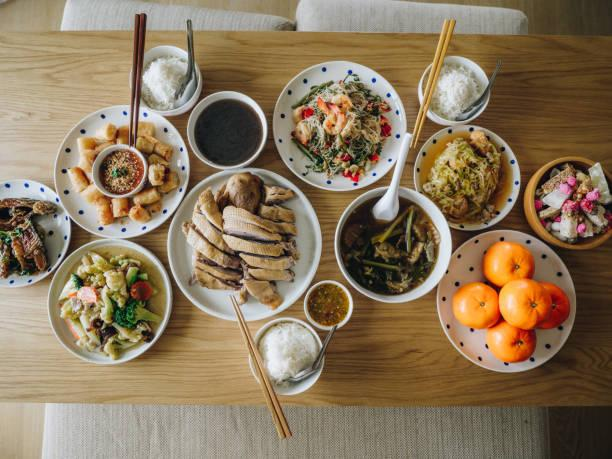Braised Crucian Carp: (165, 168, 316, 322), (432, 226, 574, 377), (54, 105, 189, 236), (272, 60, 402, 191), (46, 239, 170, 362), (334, 185, 450, 303), (415, 126, 518, 232), (526, 150, 612, 252), (0, 175, 76, 290)
